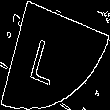L_N: (37, 25, 73, 85)
